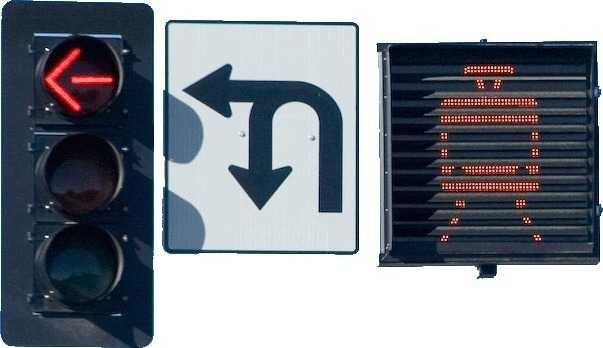red: (28, 22, 136, 321), (35, 36, 117, 126)
